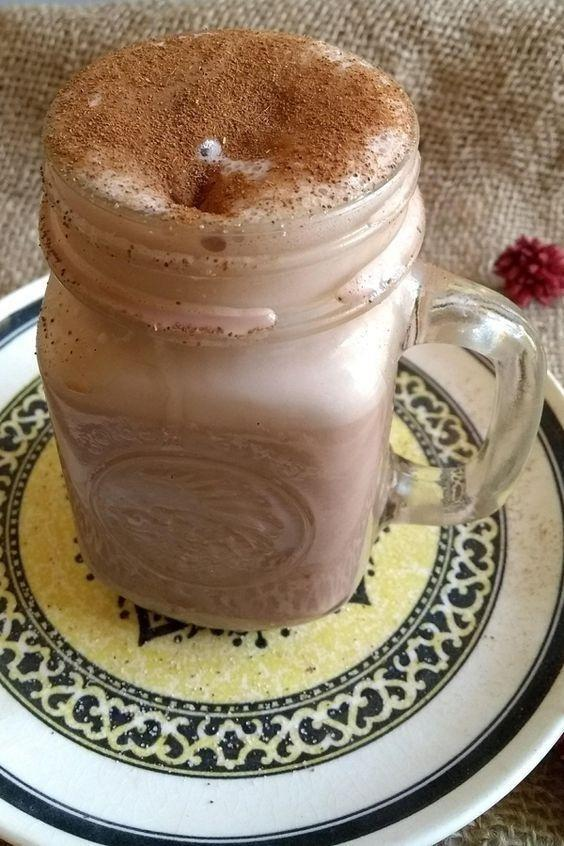glass-mug: (20, 19, 555, 637)
